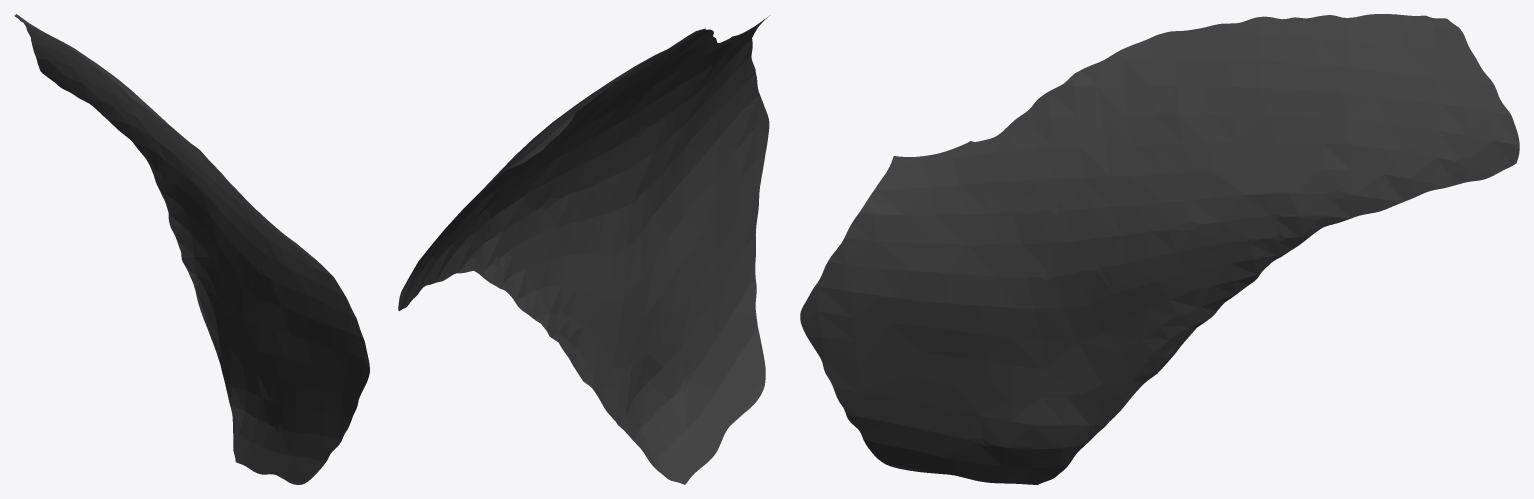
Rendered from lig_lat_collat_carpus.glb.
3 views of the same model, side by side, from view 1: azimuth 30°, elevation 25°; view 2: azimuth 150°, elevation 25°; view 3: azimuth 270°, elevation 25° (orthographic). The views are drawn at different scales.
Parts seen in each view (by area): view 1: lig_lat_collat_carpus; view 2: lig_lat_collat_carpus; view 3: lig_lat_collat_carpus.
Part boxes in pixels (x1,y1,x2,y2): lig_lat_collat_carpus: [14, 14, 369, 484]; lig_lat_collat_carpus: [398, 15, 769, 484]; lig_lat_collat_carpus: [800, 14, 1519, 484].
Size of the model in its own units: 0.0221 by 0.0717 by 0.1072.
Materials: 1 (1 with a texture image).
